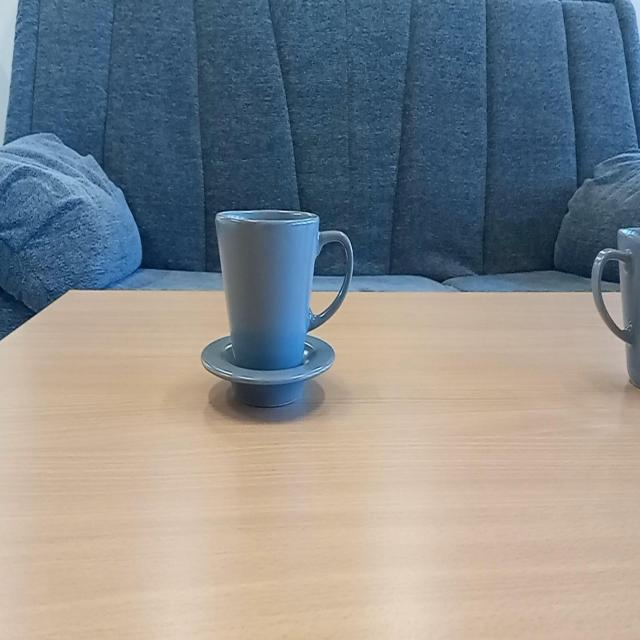cup: (199, 201, 356, 414)
